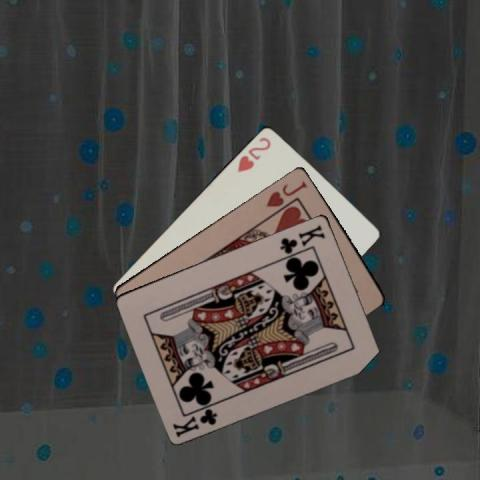2h: (234, 133, 273, 174)
Jh: (262, 177, 309, 208)
Kc: (276, 221, 327, 255), (170, 404, 219, 438)
